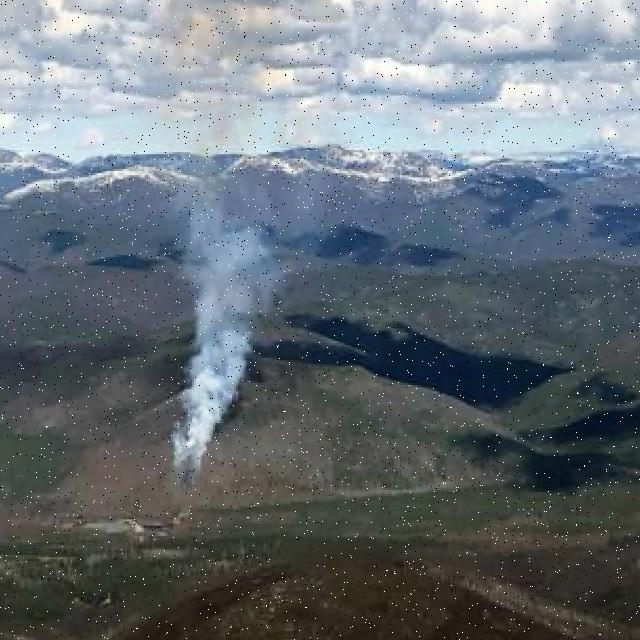smoke: (167, 183, 253, 480)
